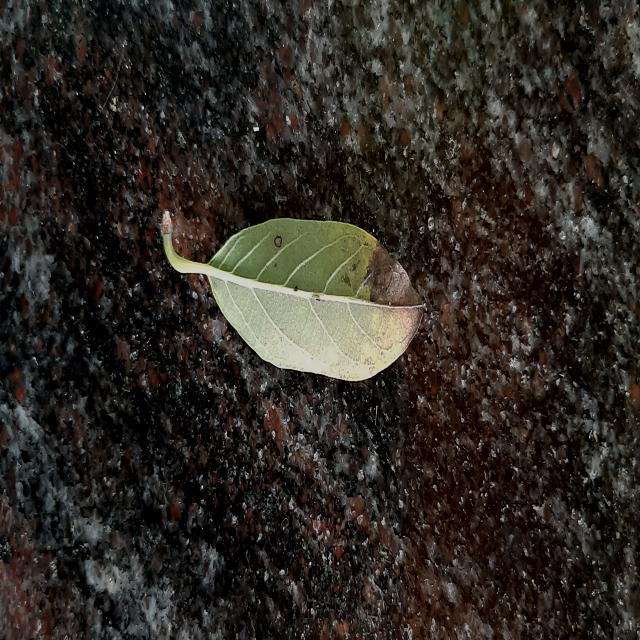leaf: (158, 209, 426, 382)
